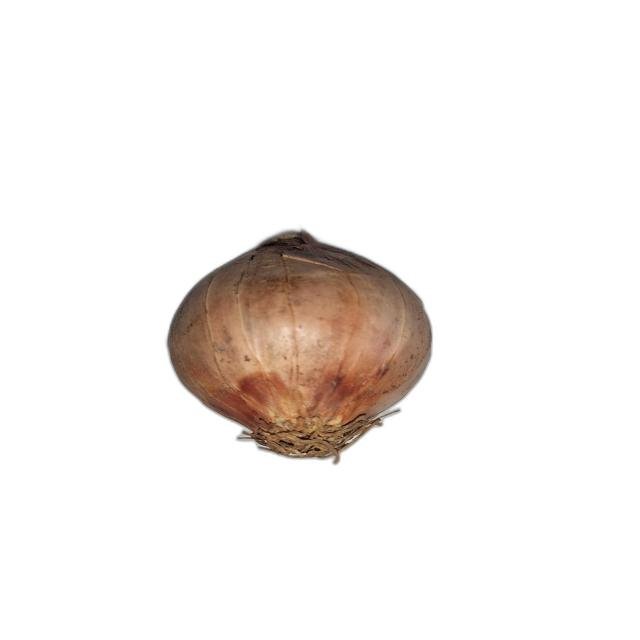onion: (166, 230, 433, 467)
